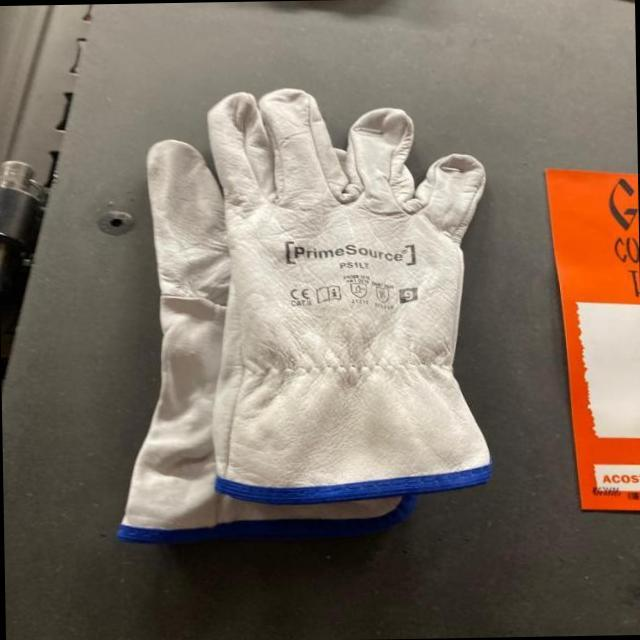glove: (105, 83, 497, 554)
